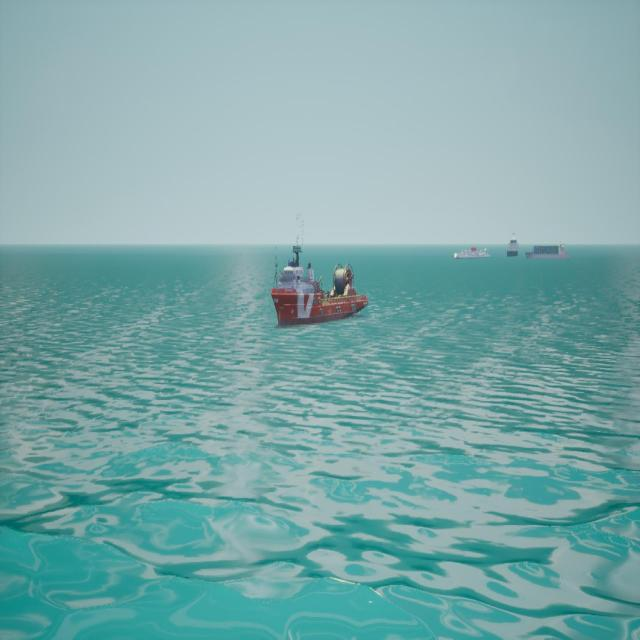tug boat: (269, 217, 367, 329)
